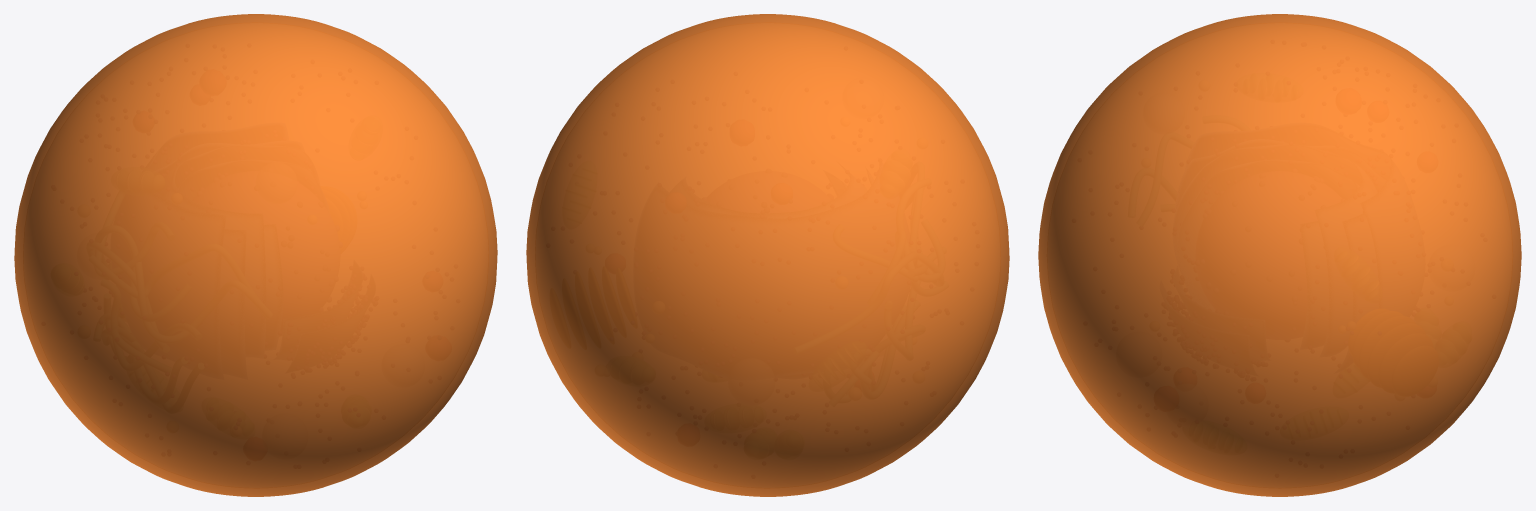
File: animal_cell_full.glb
3 views of the same model, side by side, from view 1: azimuth 30°, elevation 25°; view 2: azimuth 150°, elevation 25°; view 3: azimuth 270°, elevation 25° (orthographic).
Parts seen in each view (by area): view 1: Cell_Membrane; view 2: Cell_Membrane; view 3: Cell_Membrane.
Boxes of the visible parts, left/top/right/bottom form: Cell_Membrane: left=14, top=14, right=497, bottom=496; Cell_Membrane: left=526, top=14, right=1009, bottom=496; Cell_Membrane: left=1038, top=14, right=1521, bottom=496.
Size of the model in its own units: 4 by 4 by 4.
